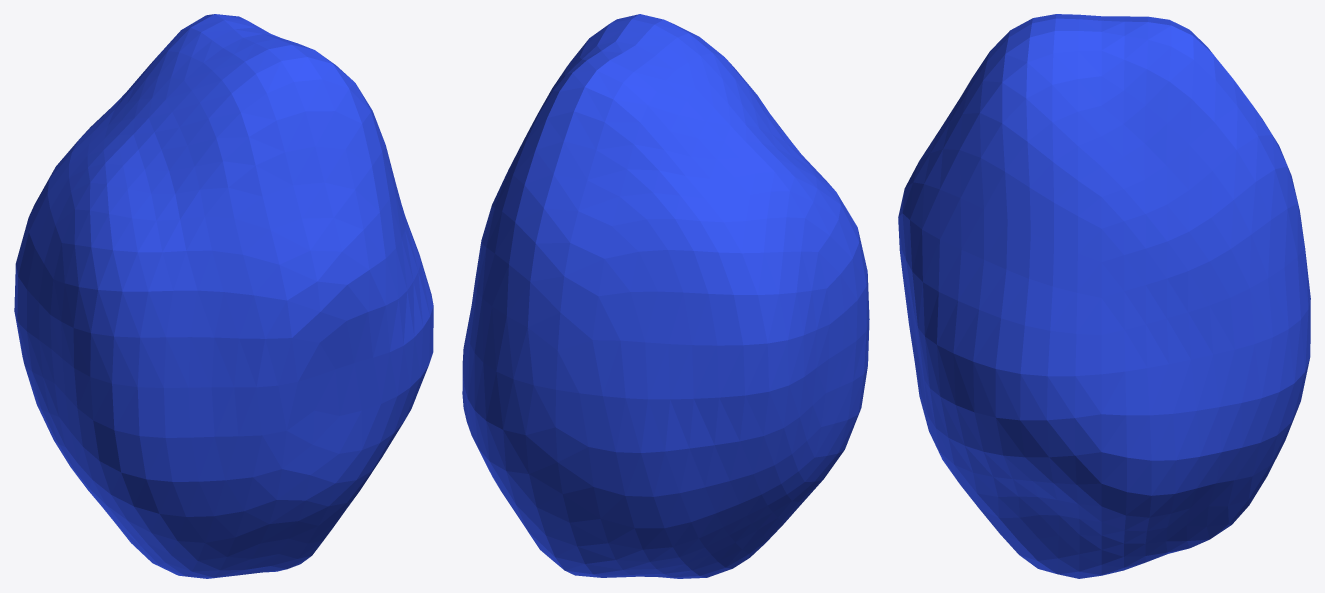
3 views of the same model, side by side, from view 1: azimuth 30°, elevation 25°; view 2: azimuth 150°, elevation 25°; view 3: azimuth 270°, elevation 25° (orthographic). The views are drawn at different scales.
Size of the model in its own units: 0.8624 by 1.22 by 0.8354.
